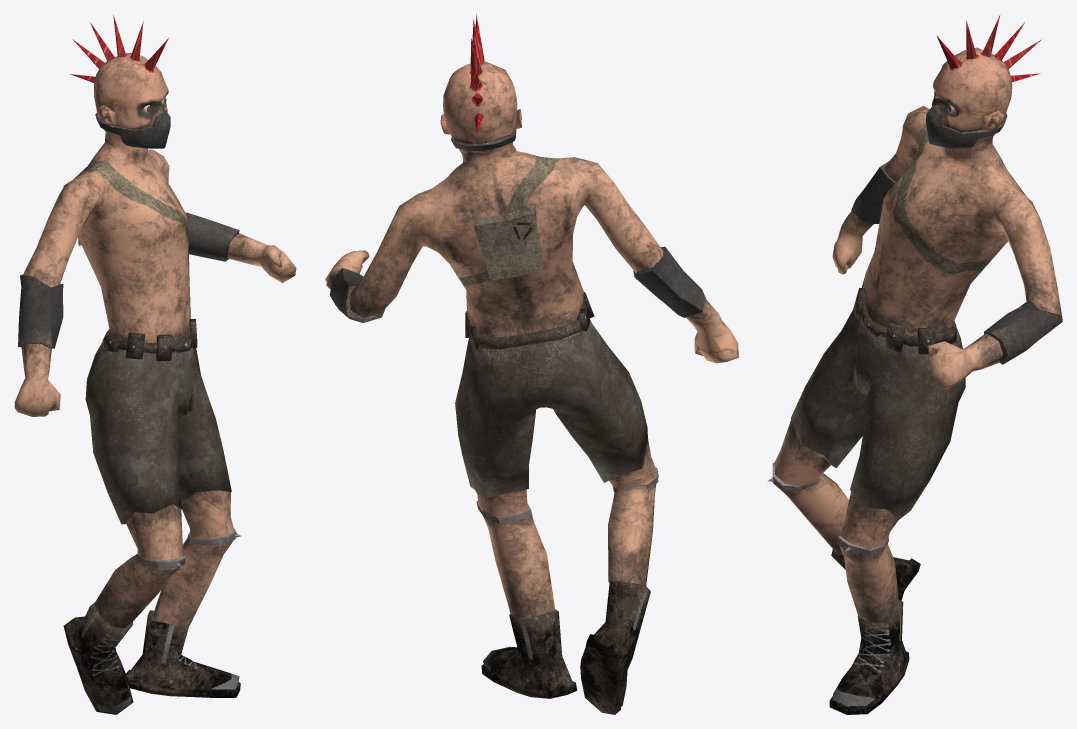
The model's file is Anim_ataque_f2_npc2.0014.obj.
3 views of the same model, side by side, from view 1: azimuth 30°, elevation 25°; view 2: azimuth 150°, elevation 25°; view 3: azimuth 270°, elevation 25° (orthographic). The views are drawn at different scales.
Visible parts, largest first — view 1: polySurface1; view 2: polySurface1; view 3: polySurface1.
Part boxes in pixels (bbox=[...]): polySurface1: bbox=[14, 15, 296, 714]; polySurface1: bbox=[325, 14, 738, 714]; polySurface1: bbox=[767, 15, 1062, 714].
Bounding box in the file's own units: 5.23 × 9.93 × 3.9.
